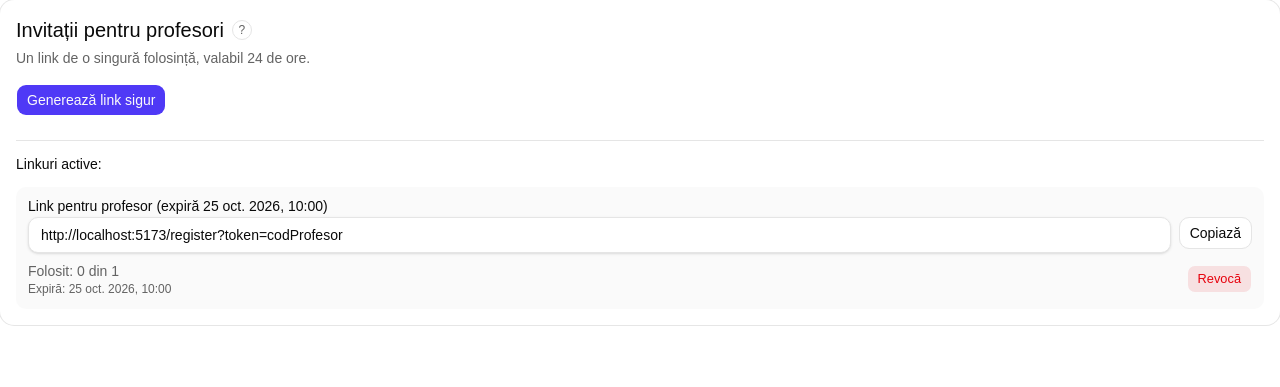
Test: AdminInviteCard › shows the server's reason when a link cannot be made
The width and height of the screenshot is (1280, 387).
Click the button "Generează link sigur".
click(91, 100)  # box [16,84,166,116]
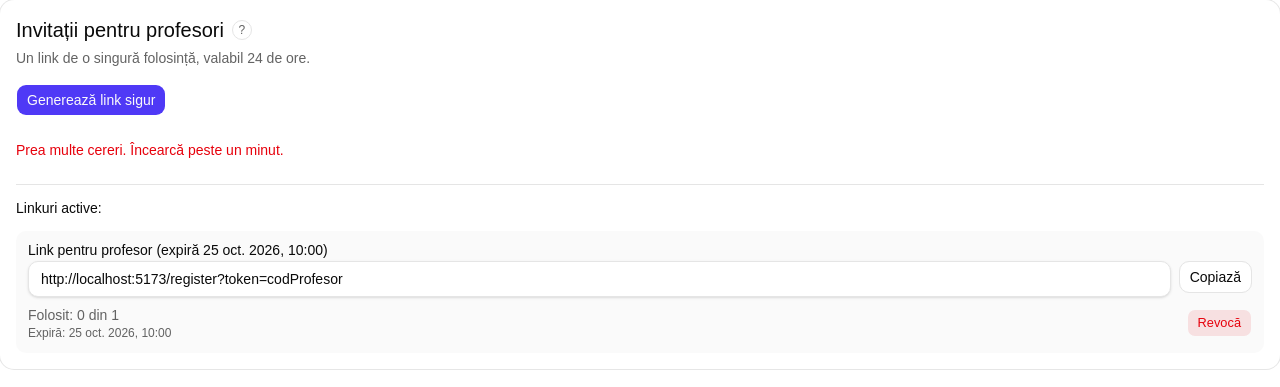
Now the message shows "Prea multe cereri", box [16,142,284,158]
